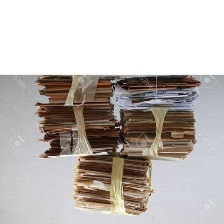news_paper: (111, 75, 203, 166), (30, 72, 117, 164), (64, 149, 158, 220)
